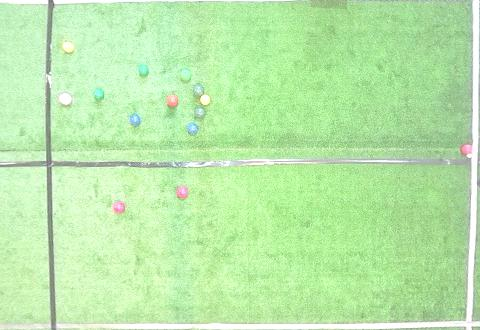blue: (187, 123, 198, 135), (130, 115, 141, 125)
green: (193, 84, 204, 96), (180, 69, 191, 81), (195, 108, 206, 118), (139, 65, 149, 76), (94, 89, 104, 100)
red: (59, 93, 72, 105), (177, 186, 189, 198), (113, 201, 125, 213), (167, 95, 179, 107), (461, 144, 473, 154)
vline: (1, 1, 58, 329), (464, 1, 479, 329)
white: (467, 154, 472, 158)
yellow: (62, 42, 74, 53), (200, 94, 210, 105)
